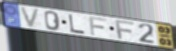0: (44, 10, 61, 31)
2: (138, 23, 156, 44)
F: (114, 19, 136, 40), (88, 16, 108, 36)
L: (68, 13, 87, 35)
V: (19, 6, 42, 29)
